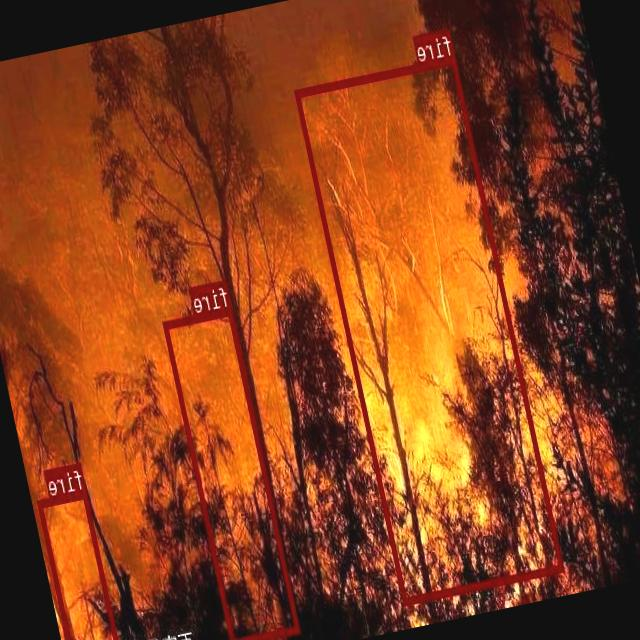fire: (295, 54, 565, 603), (163, 305, 301, 640), (38, 487, 128, 640)
